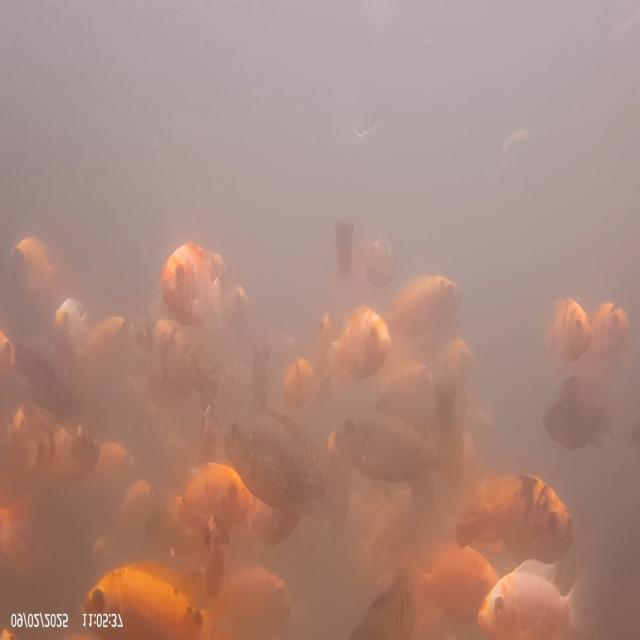ikan: (223, 410, 350, 530), (455, 471, 575, 563), (85, 540, 206, 624), (477, 556, 597, 638), (330, 407, 440, 486), (159, 240, 247, 336), (546, 295, 630, 365), (388, 273, 462, 340), (331, 303, 392, 380)
